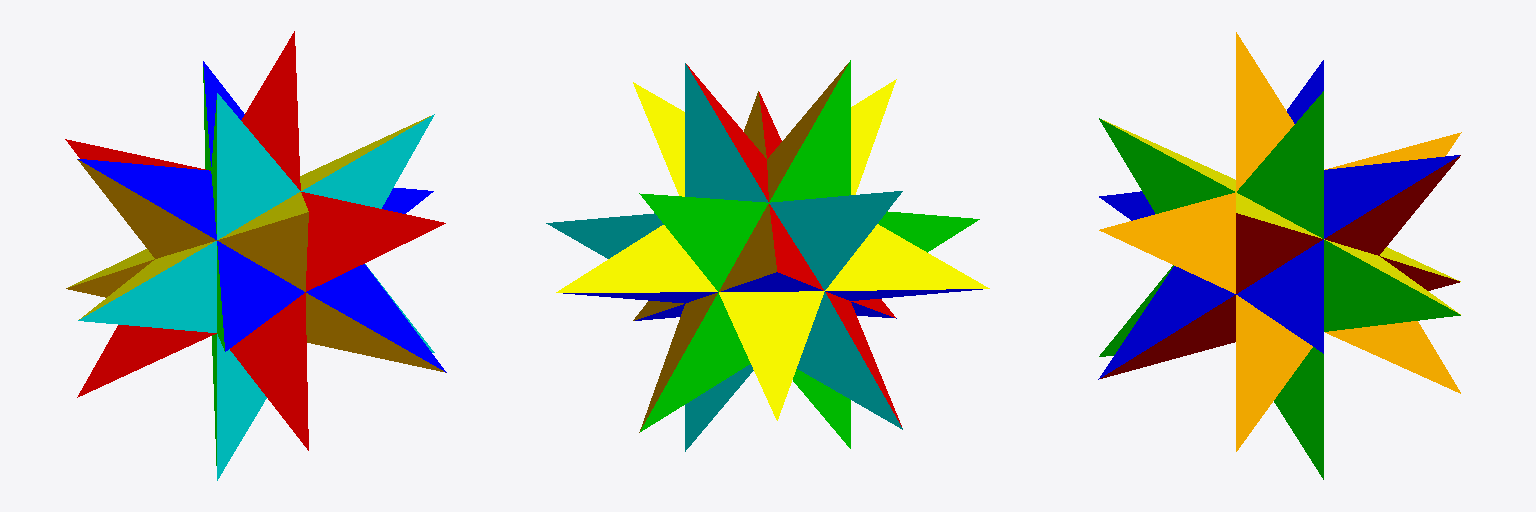
File: gde.obj
The picture shows the model from 3 angles: view 1: azimuth 30°, elevation 25°; view 2: azimuth 150°, elevation 25°; view 3: azimuth 270°, elevation 25°; orthographic projection.
Visible parts, largest first — view 1: k0; view 2: k0; view 3: k0.
Boxes of the visible parts, <box> form: k0: <box>65,31,446,480</box>; k0: <box>546,60,989,451</box>; k0: <box>1098,32,1461,479</box>.
Size of the model in its own units: 5.6 by 5.2 by 4.4.